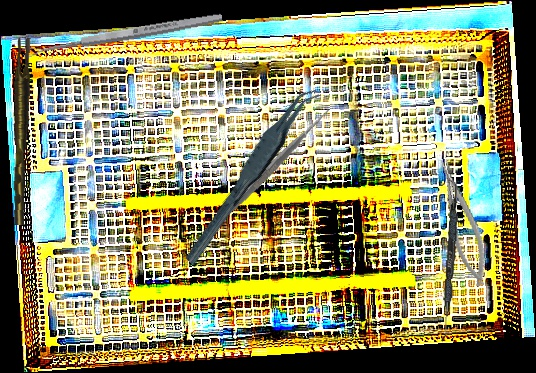Needle Holder: (434, 155, 493, 289)
Spatula Surgical: (187, 99, 339, 253), (441, 178, 460, 342)
Surgical Spoon: (21, 11, 224, 59)
Tissue Forceps: (165, 82, 337, 267), (4, 37, 37, 226)
